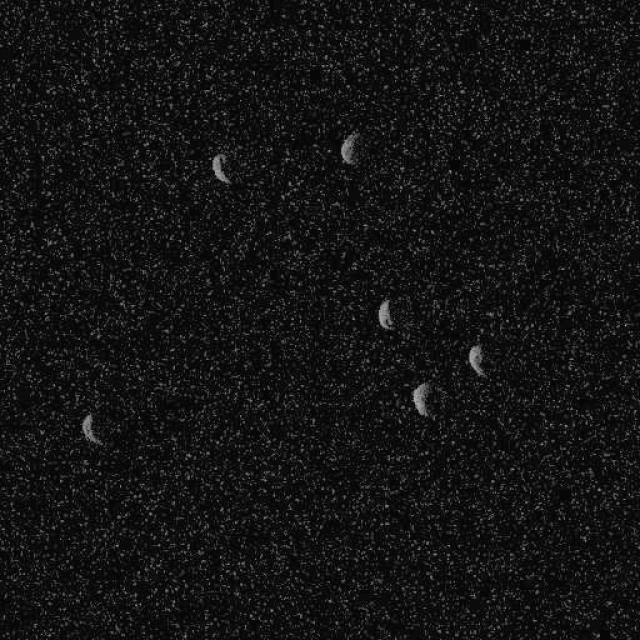D2: (412, 380, 432, 419), (80, 412, 102, 446), (466, 342, 486, 378), (210, 151, 231, 185), (339, 131, 359, 165), (376, 298, 395, 330)
